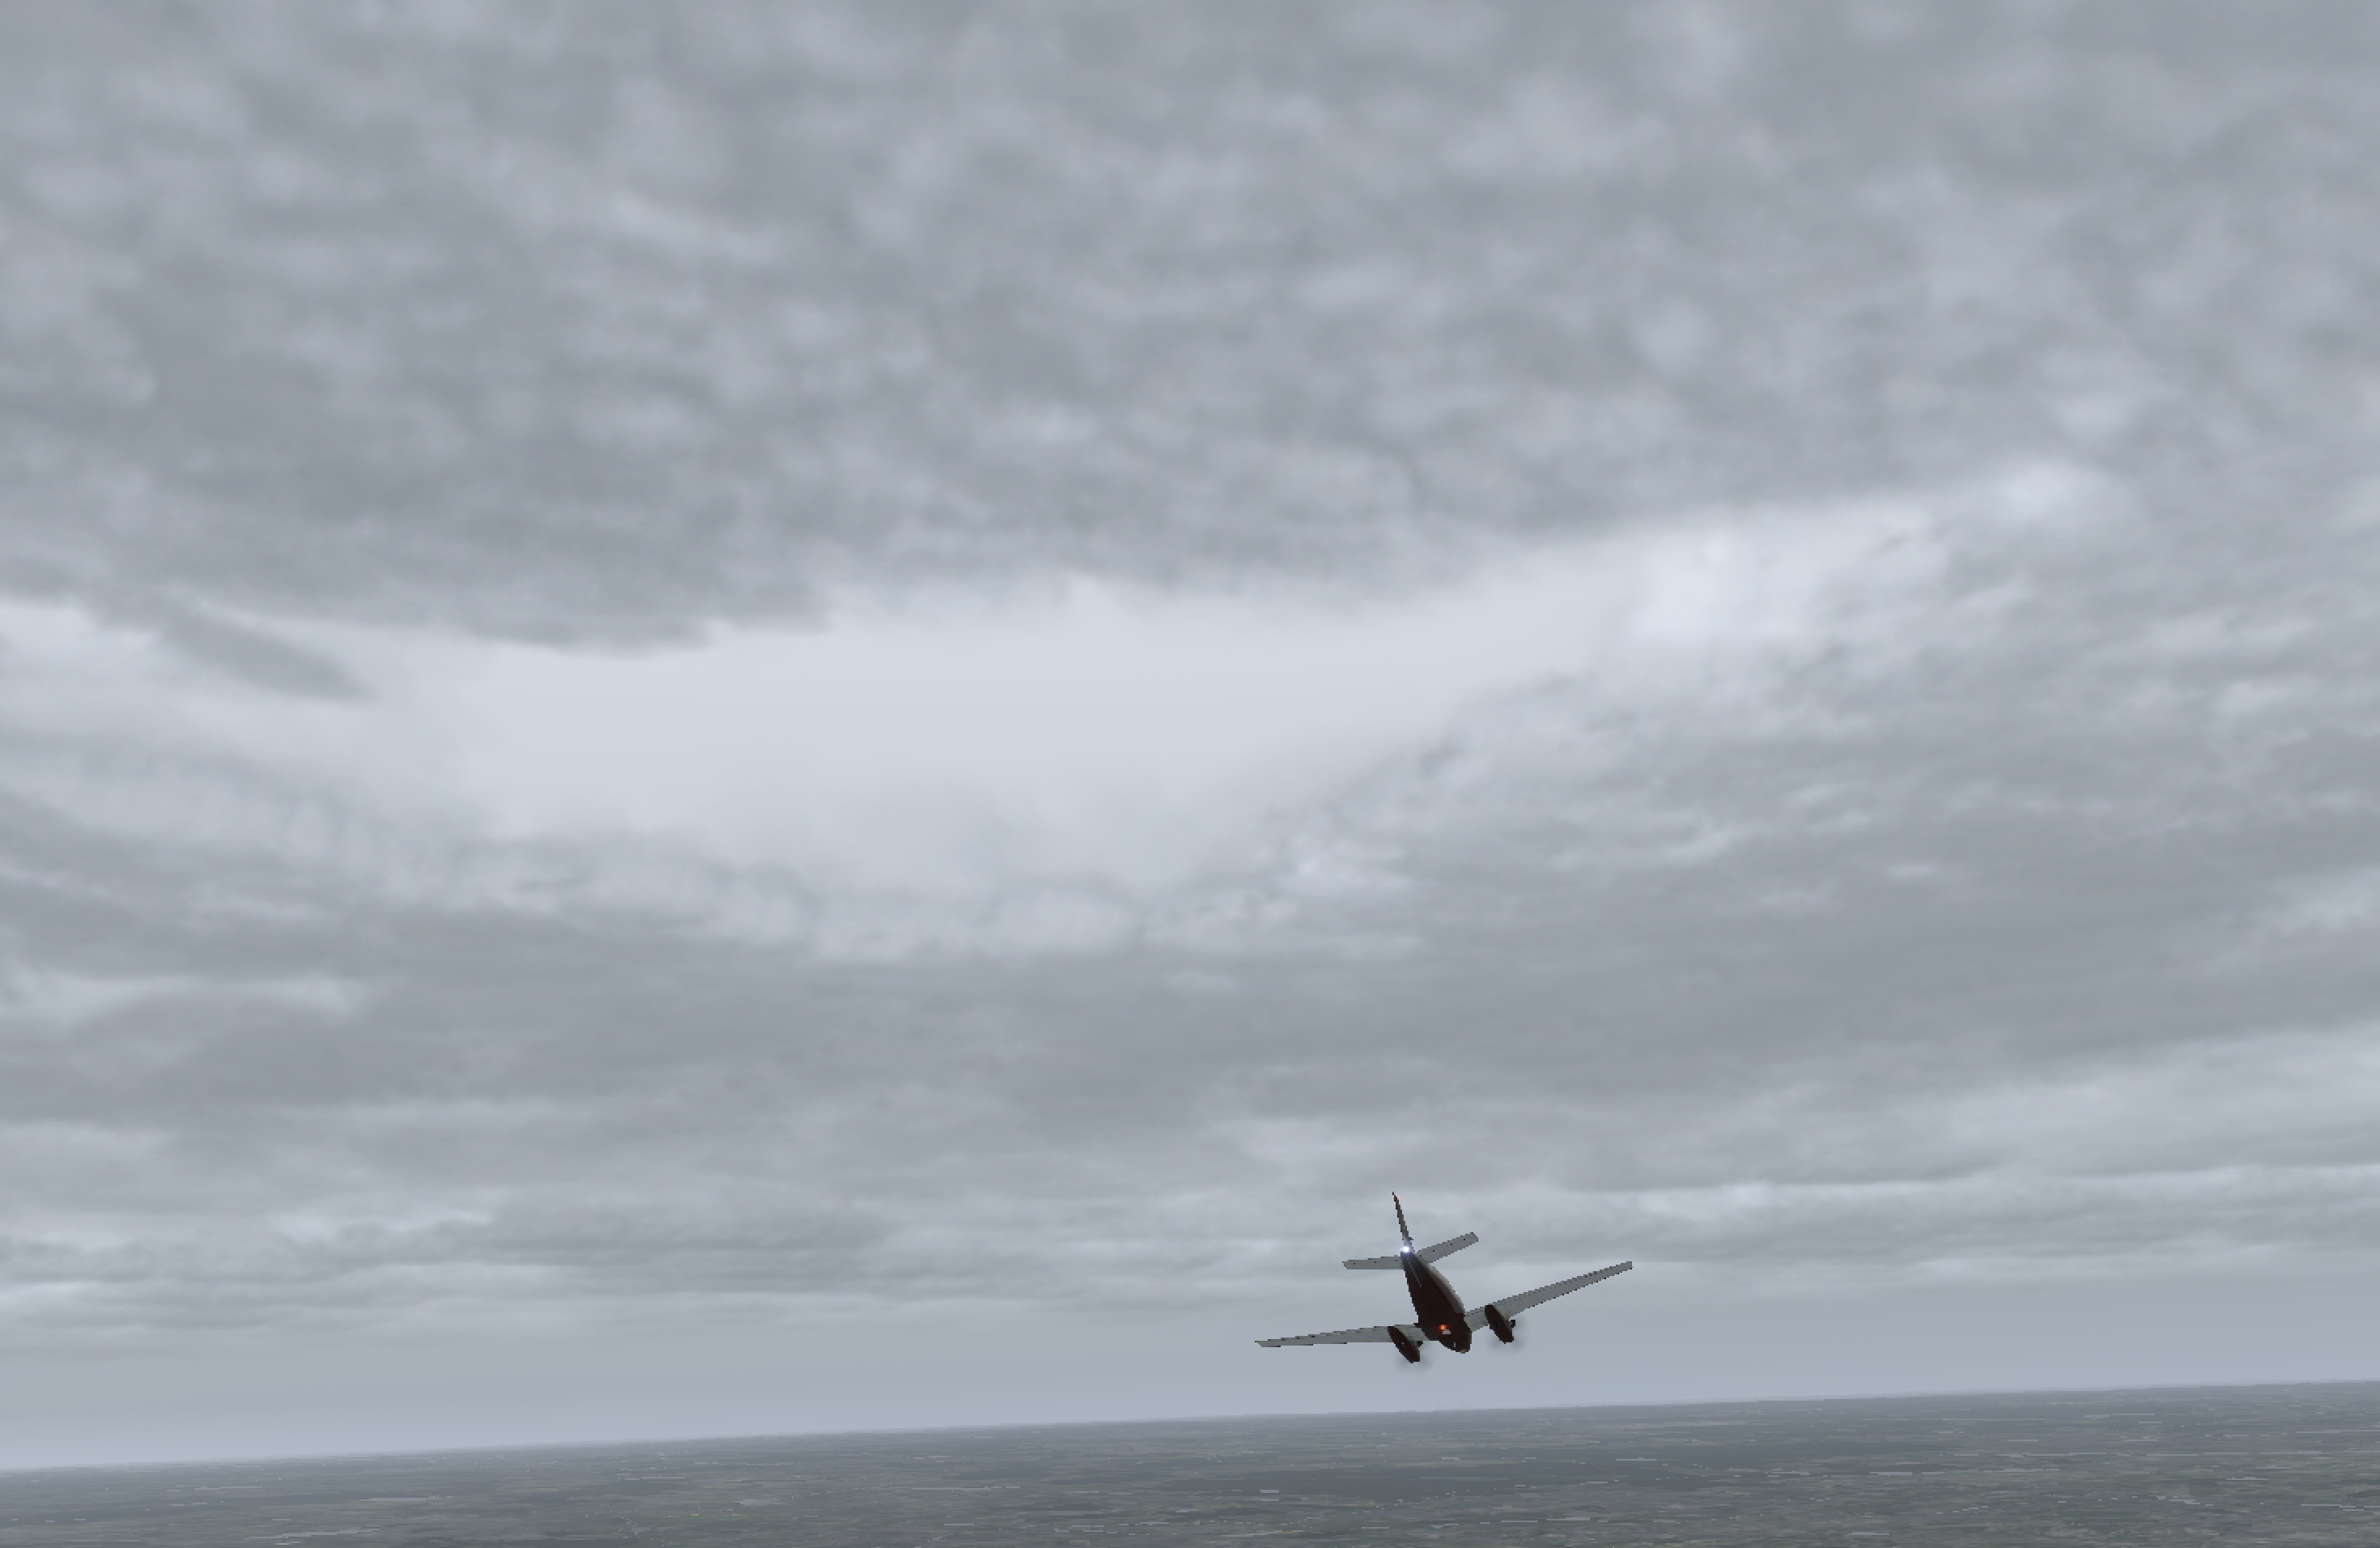aircraft: (1259, 1262, 1638, 1404)
